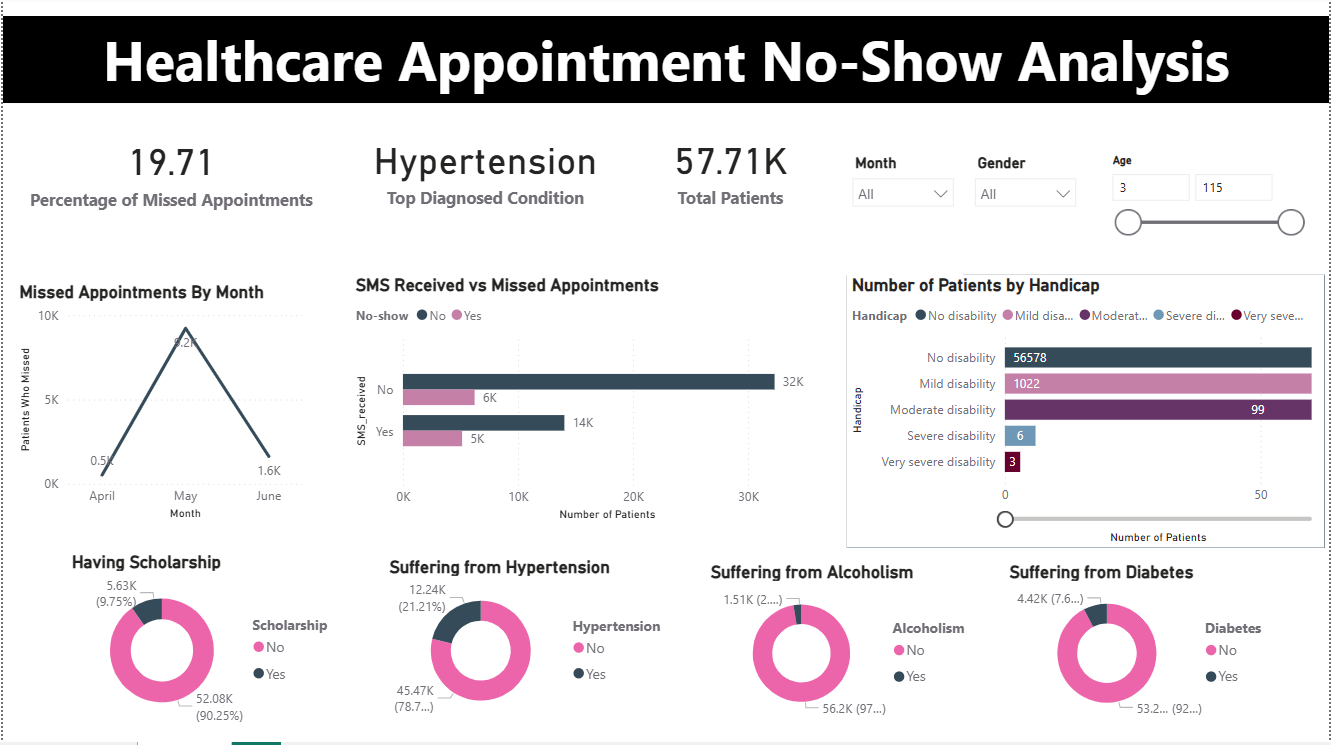

The page's visual inventory and layout, read from the dashboard file:
{"tool":"powerbi","page":{"name":"Page 1","canvas":[1280,720],"ordinal":0},"visuals":[{"type":"textbox","box":[0,19.9,1280,84.2],"z":0},{"type":"card","fields":{"Values":["KaggleV2-May-2016.PatientId"]},"box":[607.8,111.8,188.3,108.7],"z":1000},{"type":"donutChart","title":"Suffering from Diabetes","fields":{"Y":["KaggleV2-May-2016.PatientId"],"Series":["KaggleV2-May-2016.Diabetes"]},"box":[966.1,545.1,272.5,159.2],"z":2000},{"type":"donutChart","title":"Suffering from Hypertension","fields":{"Y":["KaggleV2-May-2016.PatientId"],"Series":["KaggleV2-May-2016.Hipertension"]},"box":[367.5,540.5,278.7,163.8],"z":3000},{"type":"donutChart","title":"Suffering from Alcoholism","fields":{"Y":["KaggleV2-May-2016.PatientId"],"Series":["KaggleV2-May-2016.Alcoholism"]},"box":[678.3,545.1,272.5,159.2],"z":4000},{"type":"barChart","title":"Number of Patients by Handicap ","fields":{"Y":["KaggleV2-May-2016.PatientId"],"Category":["KaggleV2-May-2016.Handcap"],"Series":["KaggleV2-May-2016.Handcap"]},"box":[814.5,269.5,460.9,263.3],"z":5000},{"type":"donutChart","title":"Having Scholarship","fields":{"Y":["KaggleV2-May-2016.PatientId"],"Series":["KaggleV2-May-2016.Scholarship"]},"box":[61.2,535.9,274.1,173],"z":6000},{"type":"actionButton","box":[0,0,100,40],"z":7000},{"type":"card","fields":{"Values":["KaggleV2-May-2016.Most_Common_Issue"]},"box":[294,111.8,343,108.7],"z":8000},{"type":"card","fields":{"Values":["KaggleV2-May-2016.NoShow_Percentage"]},"box":[15.3,116.4,294,104.1],"z":9000},{"type":"slicer","fields":{"Values":["KaggleV2-May-2016.Gender"]},"box":[927.8,147,117.9,93.4],"z":10000},{"type":"slicer","fields":{"Values":["KaggleV2-May-2016.Age"]},"box":[1058,147,206.7,98],"z":11000},{"type":"lineChart","title":"Missed Appointments By Month","fields":{"Category":["KaggleV2-May-2016.AppointmentDay.Variation.Date Hierarchy.Month"],"Y":["KaggleV2-May-2016.NoShow_Count"]},"box":[10.7,275.6,283.3,235.8],"z":12000},{"type":"clusteredBarChart","title":"SMS Received vs Missed Appointments","fields":{"Category":["KaggleV2-May-2016.SMS_received"],"Y":["KaggleV2-May-2016.PatientId"],"Series":["KaggleV2-May-2016.No-show"]},"box":[335.3,269.5,460.9,241.9],"z":13000},{"type":"slicer","fields":{"Values":["KaggleV2-May-2016.AppointmentMonth"]},"box":[810,147,117.9,122.5],"z":14000}]}

Visuals, with their boxes in screenshot pixels (x1, y1, x2, y2), scaled from the page's 1280x720 canvas onto the 1331x745 screenshot:
textbox: x1=0 y1=21 x2=1330 y2=108
card - KaggleV2-May-2016.PatientId: x1=632 y1=116 x2=828 y2=228
"Suffering from Diabetes" donutChart: x1=1005 y1=564 x2=1288 y2=729
"Suffering from Hypertension" donutChart: x1=382 y1=559 x2=672 y2=729
"Suffering from Alcoholism" donutChart: x1=705 y1=564 x2=989 y2=729
"Number of Patients by Handicap " barChart: x1=847 y1=279 x2=1326 y2=551
"Having Scholarship" donutChart: x1=64 y1=555 x2=349 y2=734
actionButton: x1=0 y1=0 x2=104 y2=41
card - KaggleV2-May-2016.Most_Common_Issue: x1=306 y1=116 x2=662 y2=228
card - KaggleV2-May-2016.NoShow_Percentage: x1=16 y1=120 x2=322 y2=228
slicer - KaggleV2-May-2016.Gender: x1=965 y1=152 x2=1087 y2=249
slicer - KaggleV2-May-2016.Age: x1=1100 y1=152 x2=1315 y2=254
"Missed Appointments By Month" lineChart: x1=11 y1=285 x2=306 y2=529
"SMS Received vs Missed Appointments" clusteredBarChart: x1=349 y1=279 x2=828 y2=529
slicer - KaggleV2-May-2016.AppointmentMonth: x1=842 y1=152 x2=965 y2=279
